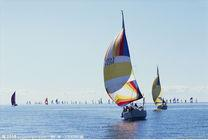fanchuan: (101, 8, 146, 123), (149, 64, 172, 111), (9, 89, 20, 109)
